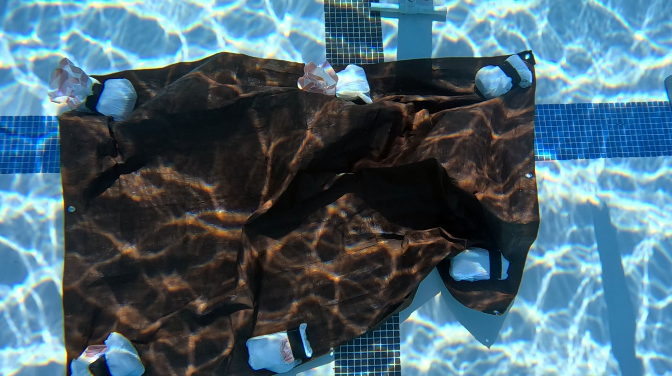sandbag: (52, 48, 538, 375)
